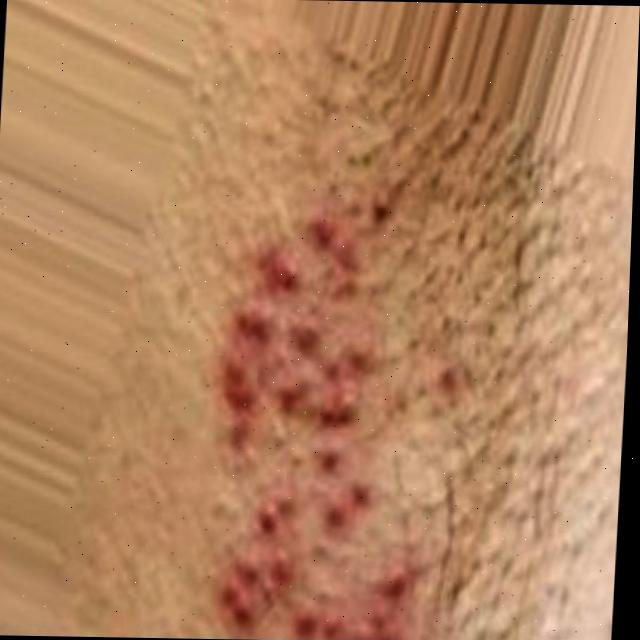Shingles: (200, 210, 437, 640)
